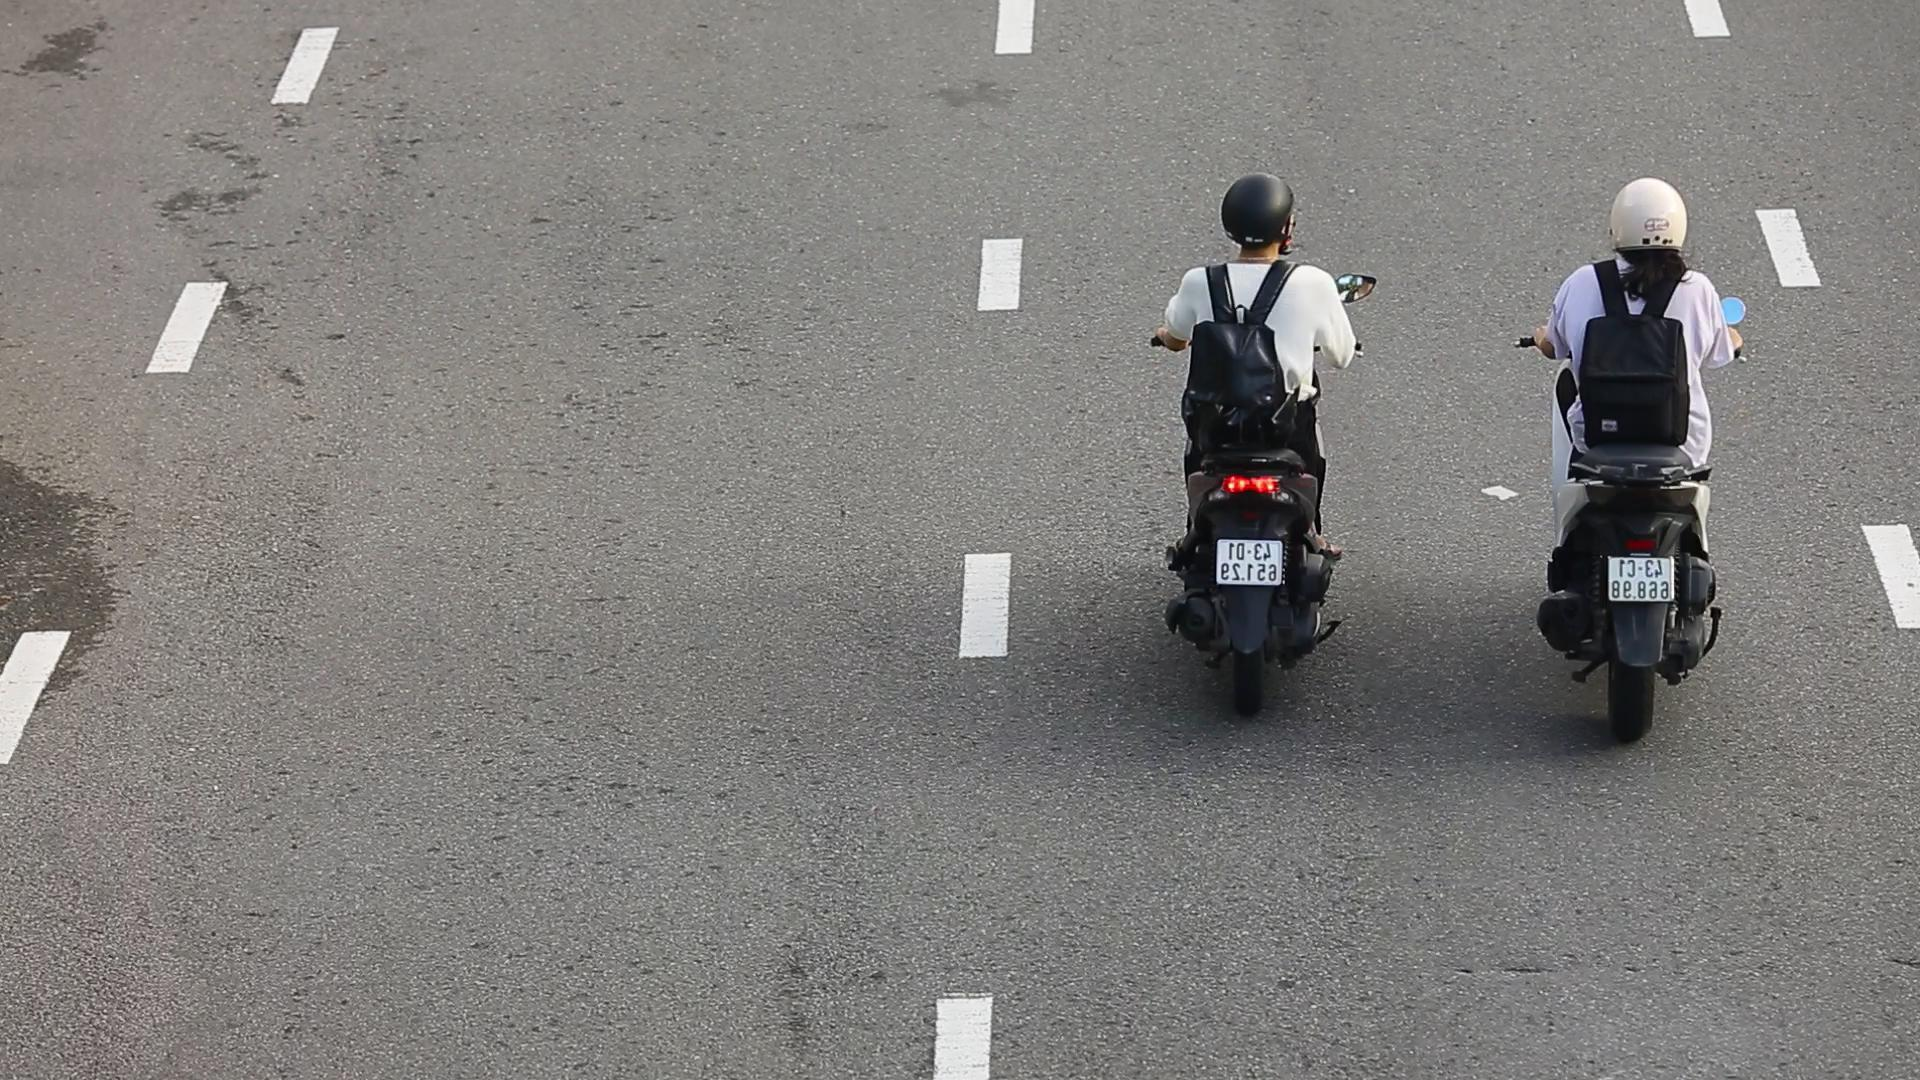motobike: (1513, 166, 1758, 746), (1147, 169, 1379, 715)
